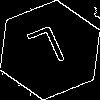L: (25, 25, 72, 78)
